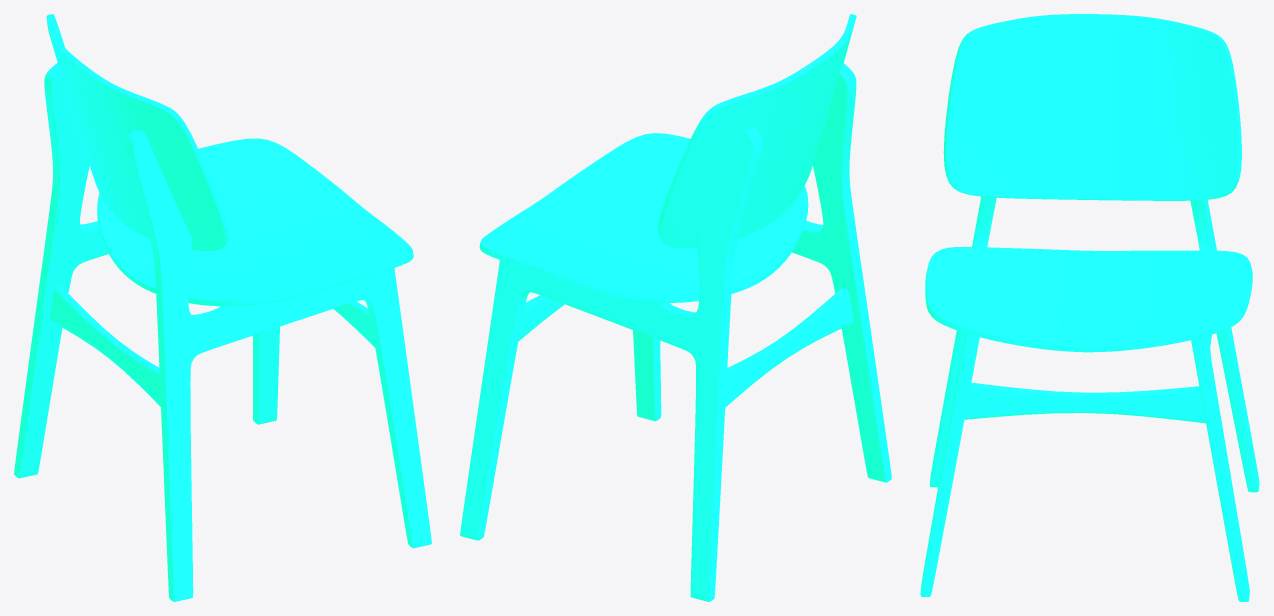
Rendered from HOUSINGURBANISM3JS.glb.
3 renders of one model, left to right at view 1: azimuth 30°, elevation 25°; view 2: azimuth 150°, elevation 25°; view 3: azimuth 270°, elevation 25°, orthographic. The views are drawn at different scales.
Visible parts, largest first — view 1: Søborg 3050 Screw.002; view 2: Søborg 3050 Screw.002; view 3: Søborg 3050 Screw.002.
Part boxes in pixels (x1=…): Søborg 3050 Screw.002: x1=14, y1=14, x2=431, y2=601; Søborg 3050 Screw.002: x1=460, y1=14, x2=891, y2=601; Søborg 3050 Screw.002: x1=920, y1=14, x2=1259, y2=601.
Size of the model in its own units: 5.66 by 9.14 by 6.1.
